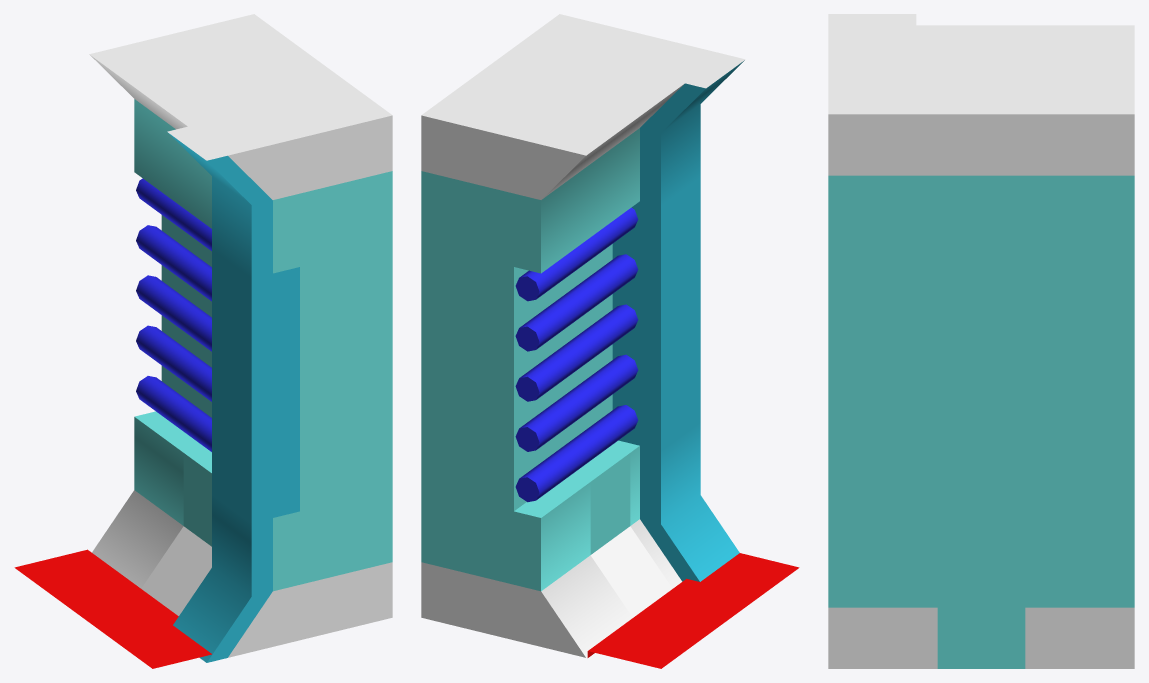
Rendered from Wall-Ending.fbx.
The picture shows the model from 3 angles, left to right: view 1: azimuth 30°, elevation 25°; view 2: azimuth 150°, elevation 25°; view 3: azimuth 270°, elevation 25°; orthographic projection. The views are drawn at different scales.
Parts seen in each view (by area): view 1: Ending; view 2: Ending; view 3: Ending.
Part boxes in pixels (box(x1,y1,x2,y2)): Ending: box(14, 14, 392, 668); Ending: box(421, 14, 799, 668); Ending: box(828, 14, 1134, 668).
Size of the model in its own units: 78.79 by 157 by 78.74.
